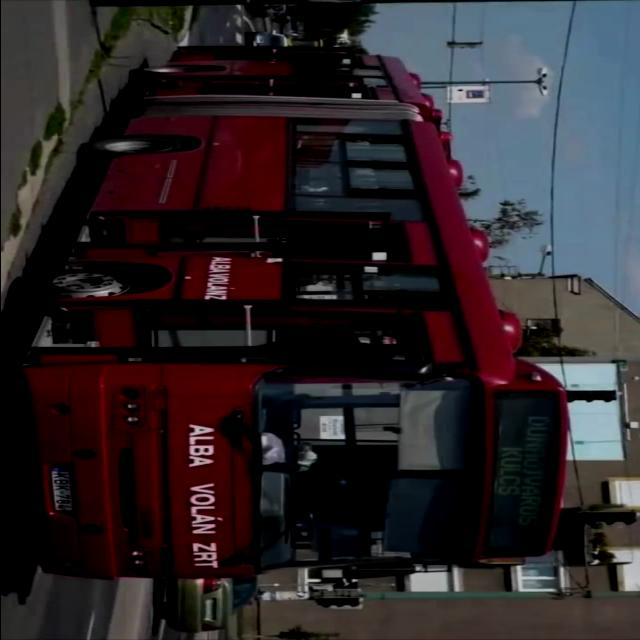bus: (1, 44, 573, 586)
